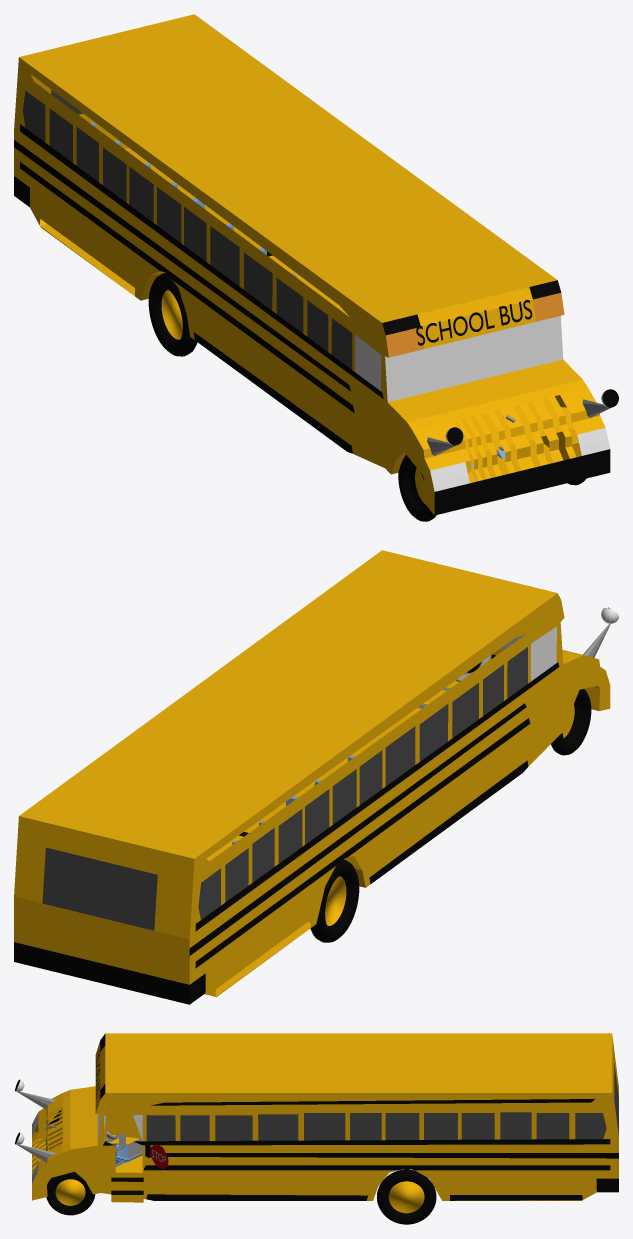
Rendered from schoolBus.fbx.
3 views of the same model, one above another, from view 1: azimuth 30°, elevation 25°; view 2: azimuth 150°, elevation 25°; view 3: azimuth 270°, elevation 25° (orthographic). The views are drawn at different scales.
Parts seen in each view (by area): view 1: Bus, BackWheels, FrontWheels; view 2: Bus, BackWheels, FrontWheels; view 3: Bus, BackWheels, FrontWheels, Stairs, Chair, Door, Stop.
Part boxes in pixels (box(x1,y1,x2,y2)): Bus: box(14, 14, 618, 515); BackWheels: box(148, 273, 197, 356); FrontWheels: box(398, 454, 585, 521); Bus: box(14, 550, 618, 1004); BackWheels: box(310, 859, 359, 942); FrontWheels: box(551, 689, 591, 755); Bus: box(14, 1033, 618, 1200); BackWheels: box(377, 1168, 436, 1224); FrontWheels: box(45, 1141, 95, 1215); Stairs: box(111, 1177, 143, 1202); Chair: box(107, 1134, 142, 1166); Door: box(104, 1114, 143, 1172); Stop: box(145, 1144, 168, 1169).
Bounding box in the file's own units: 268 × 233 × 962.
